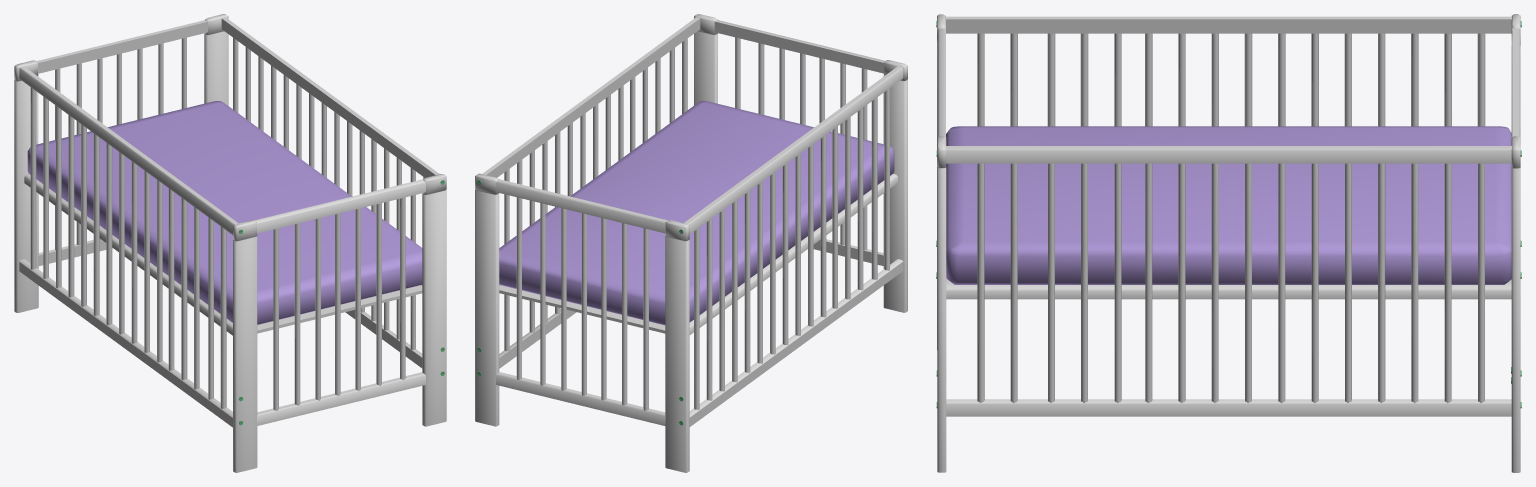
File: GulliverCrib.FBX
3 renders of one model, left to right at view 1: azimuth 30°, elevation 25°; view 2: azimuth 150°, elevation 25°; view 3: azimuth 270°, elevation 25°, orthographic. The views are drawn at different scales.
Visible parts, largest first — view 1: GulliverCrib; view 2: GulliverCrib; view 3: GulliverCrib.
Part boxes in pixels (bbox=[...]): GulliverCrib: bbox=[14, 14, 446, 472]; GulliverCrib: bbox=[475, 14, 907, 472]; GulliverCrib: bbox=[936, 14, 1521, 472].
Size of the model in its own units: 74.9 by 136 by 83.
